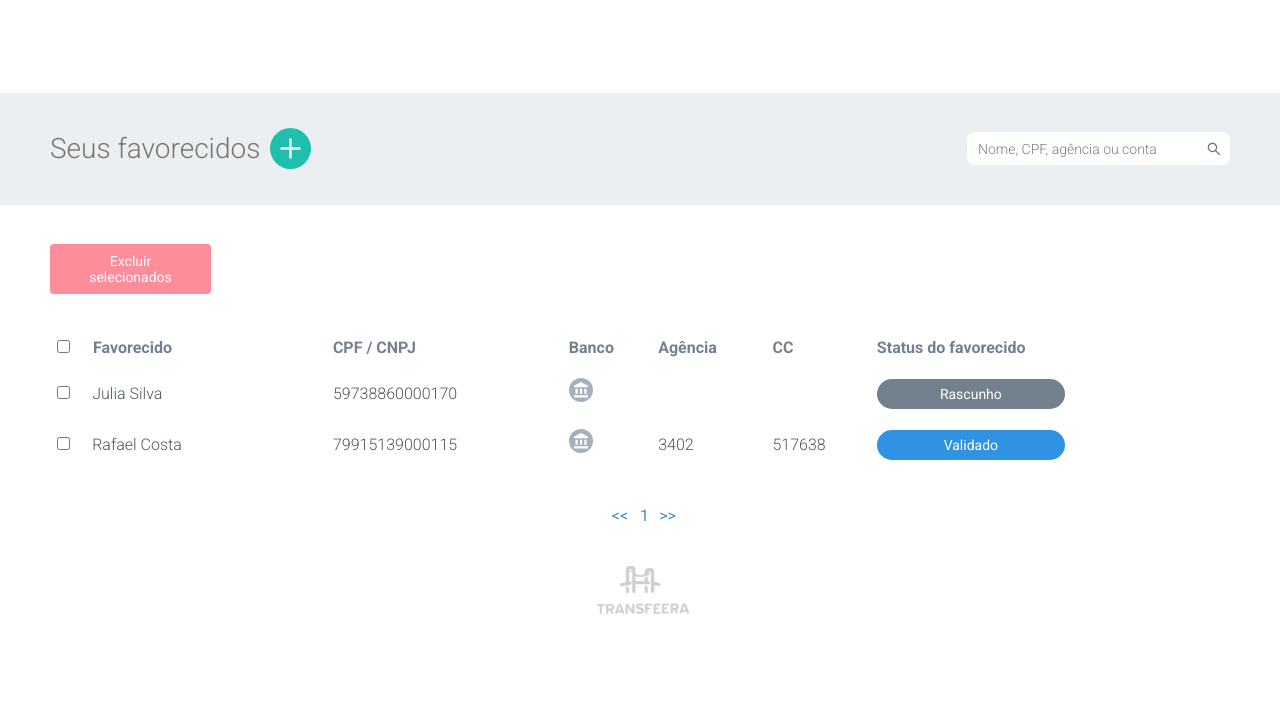
Test: Delete dialog › should close delete dialog when cancel-button is click
The width and height of the screenshot is (1280, 720).
Step 1. Click the button "Rafael Costa" → (137, 445), box [73,426,201,464]
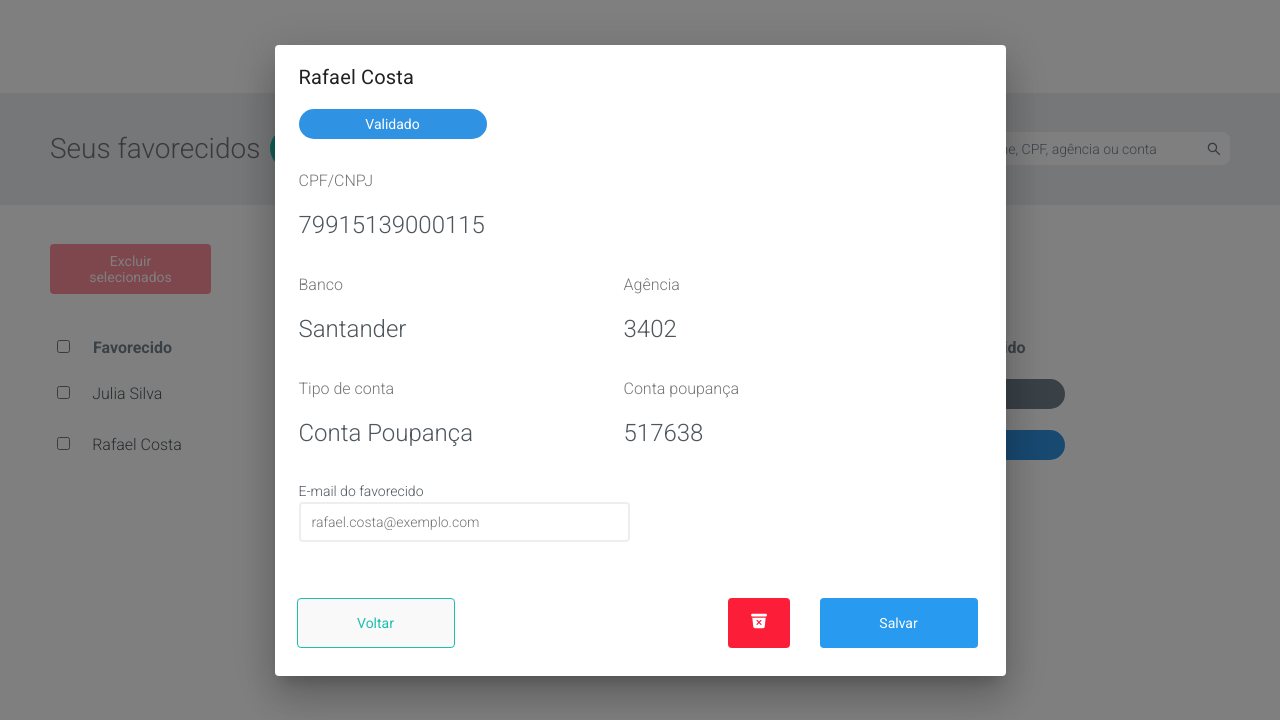
Step 2. Click the button with test id "delete-button" → (758, 622), box [728,598,790,648]
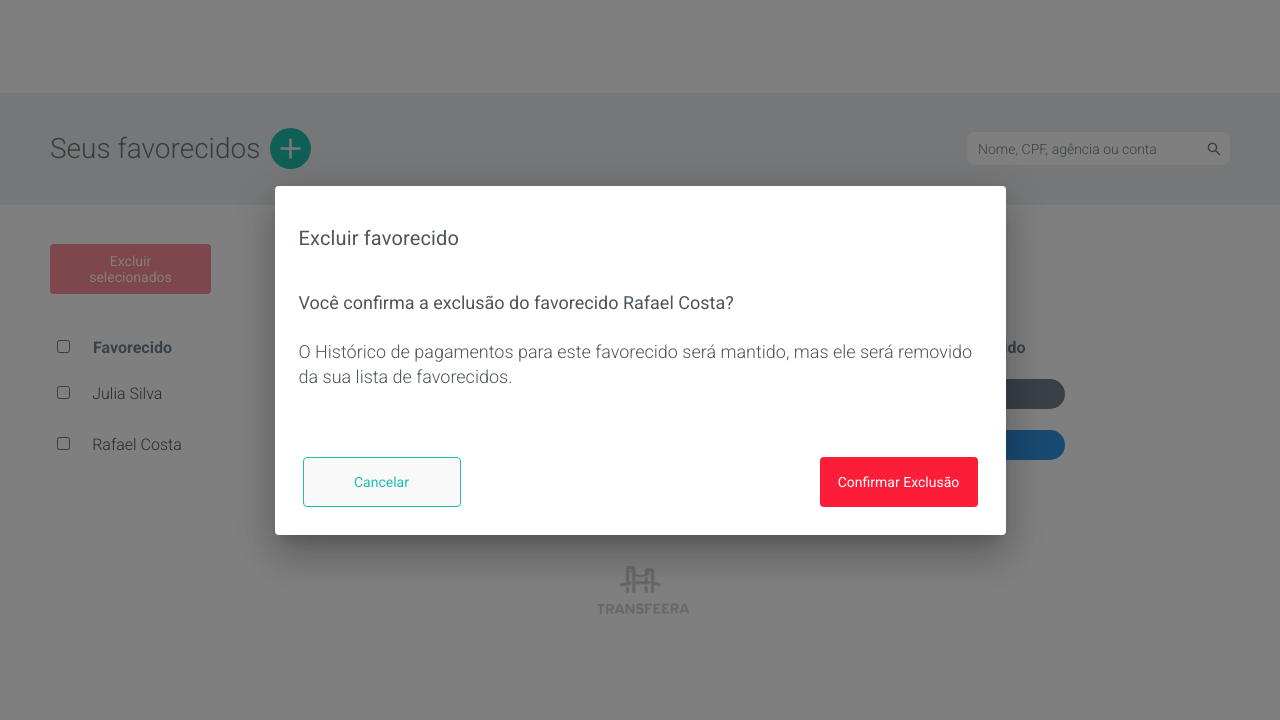
Step 3. Click the button with test id "cancel-button" → (382, 482), box [302,456,460,506]
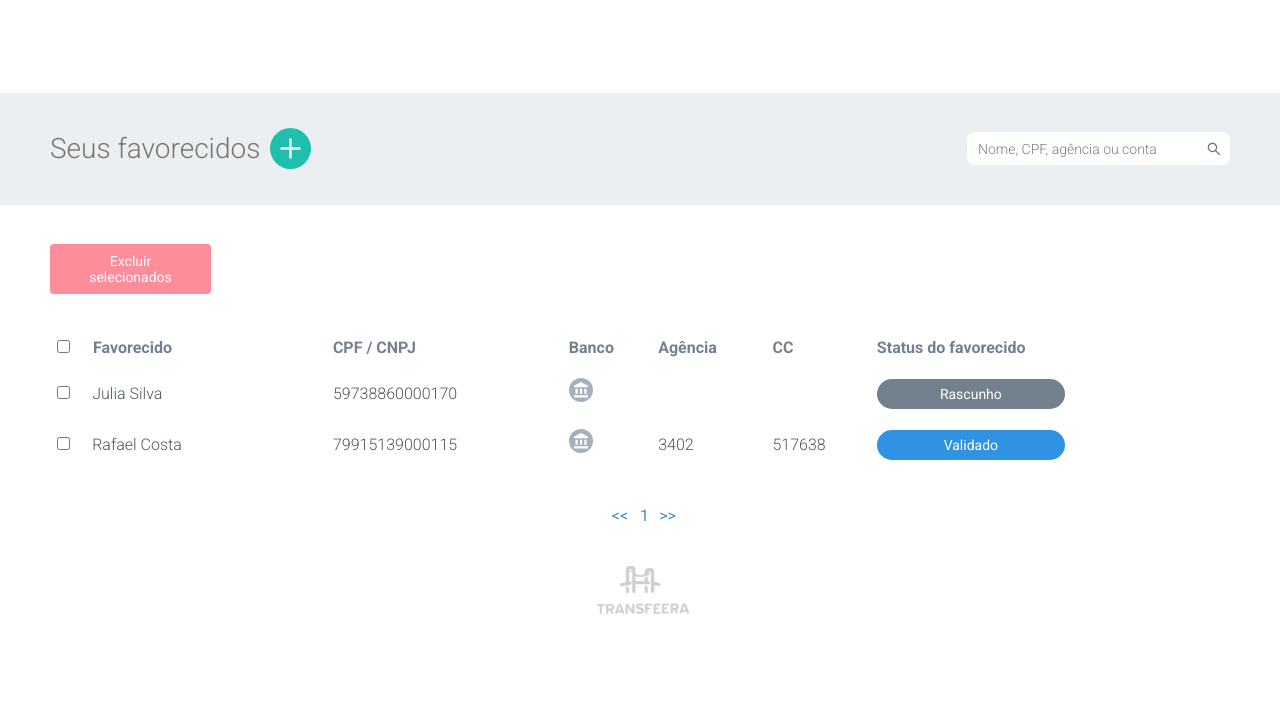
Expected: the heading "Excluir favorecido" is gone
